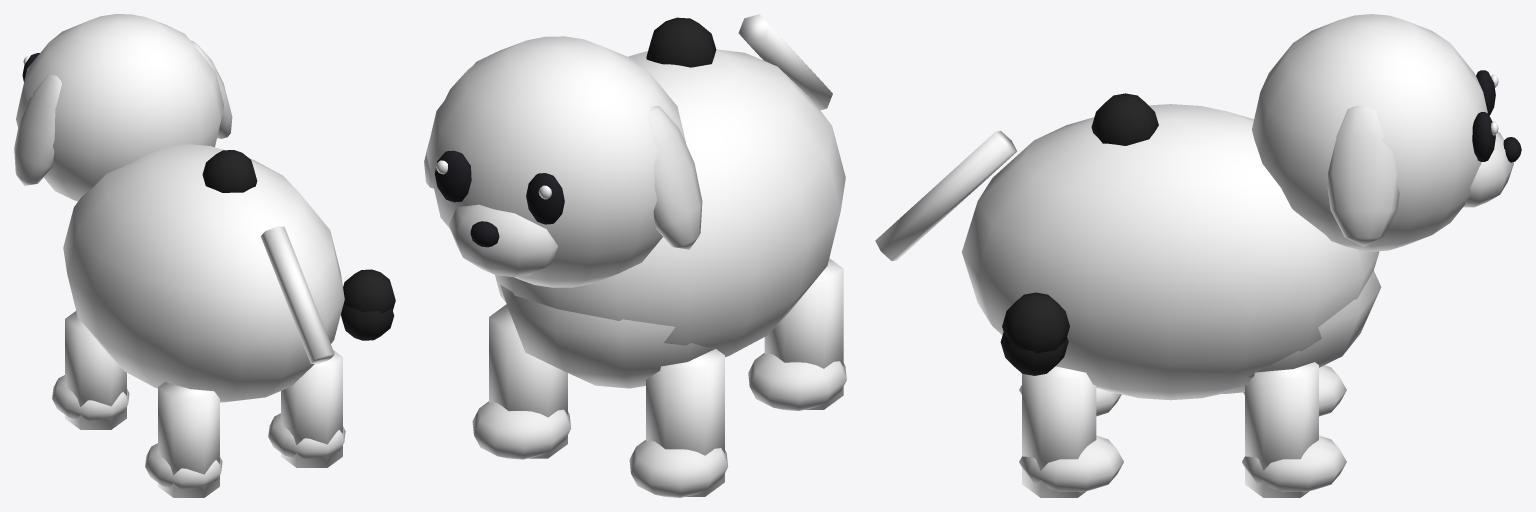
The model's file is Dalmatian.fbx.
The picture shows the model from 3 angles, left to right: view 1: azimuth 30°, elevation 25°; view 2: azimuth 150°, elevation 25°; view 3: azimuth 270°, elevation 25°; orthographic projection. The views are drawn at different scales.
Visible parts, largest first — view 1: Dalmatian; view 2: Dalmatian; view 3: Dalmatian.
Boxes of the visible parts, x1,y1,x2,y2 form: Dalmatian: (14, 14, 395, 497); Dalmatian: (424, 14, 846, 497); Dalmatian: (875, 14, 1521, 497).
Bounding box in the file's own units: 219 × 303 × 418.
1 material, 1 textured.
